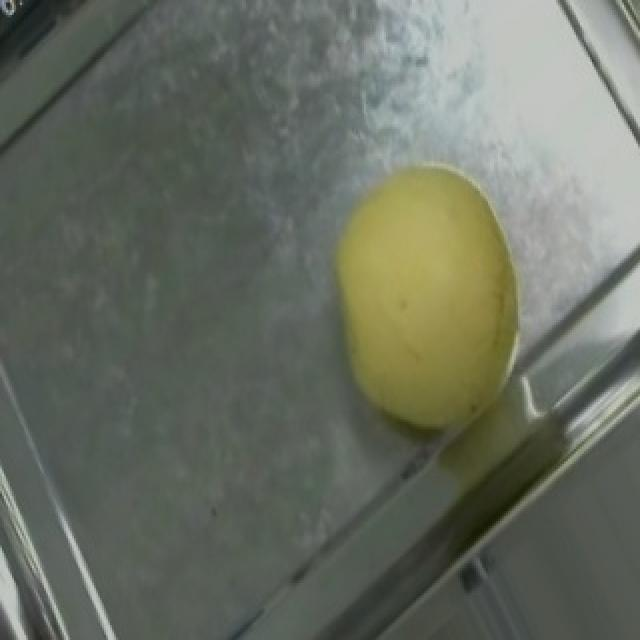Fruit: (280, 124, 586, 471)
